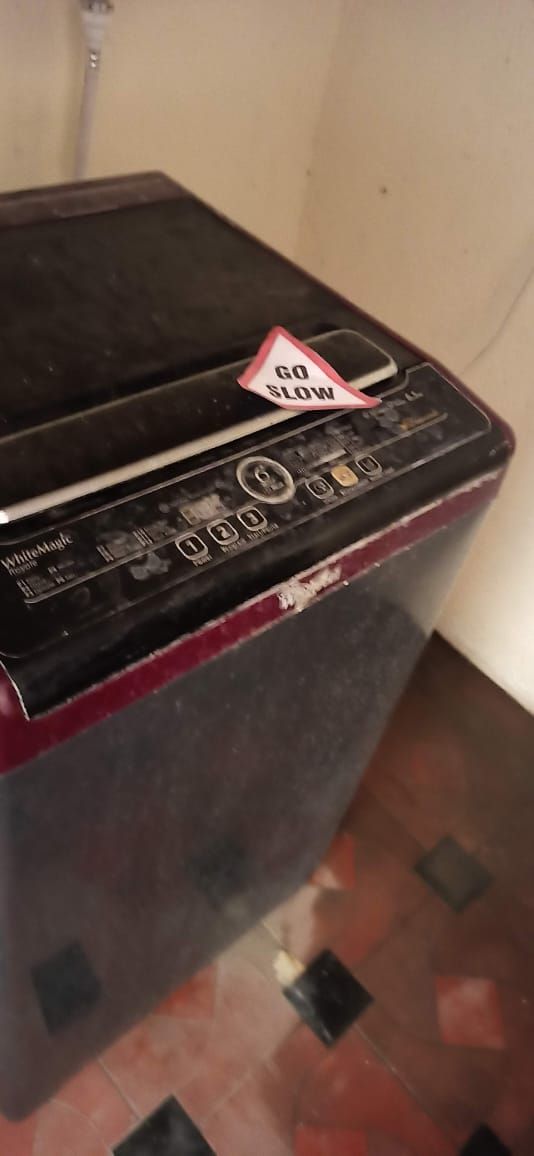GO SLOW: (199, 321, 402, 425)
